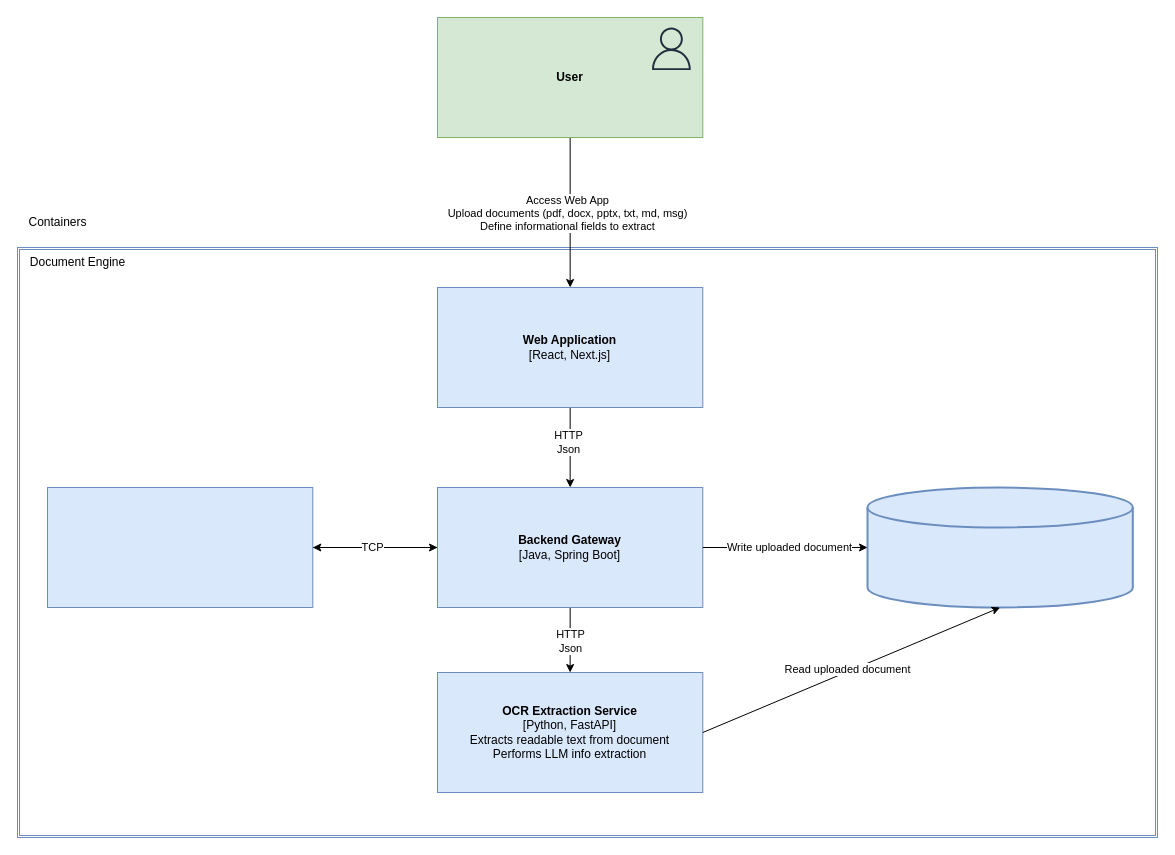
The diagram is 1175 pixels wide and 855 high, and some of its shapes have lost their labels. The shapes that lost their labels are listed below. From the top down, each one's centre as x and y in pixels, then its label:
At pixel 179 547: "Redis LLM token limits Job queue, status Extracted text".
At pixel 999 547: "File Storage".
